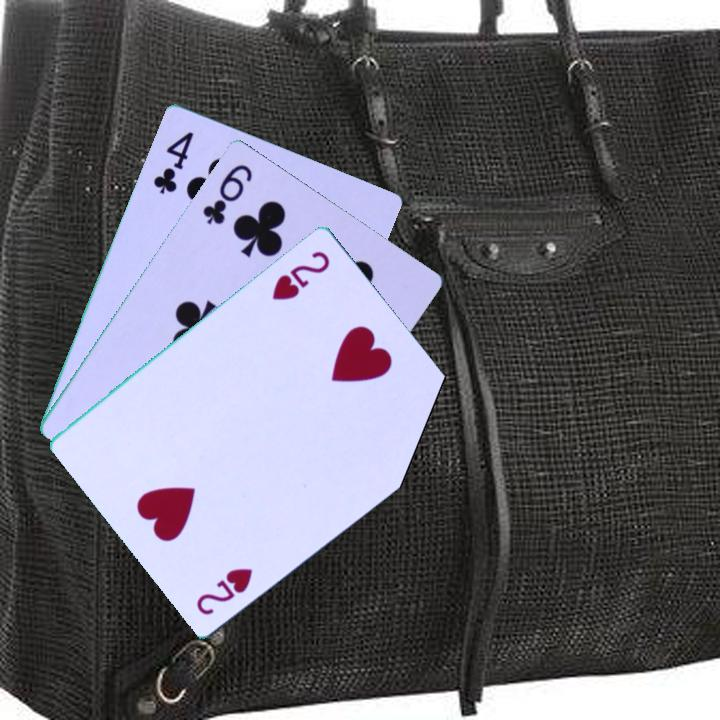2h: (268, 246, 333, 303), (193, 563, 256, 618)
4c: (149, 127, 197, 197)
6c: (198, 160, 256, 227)
